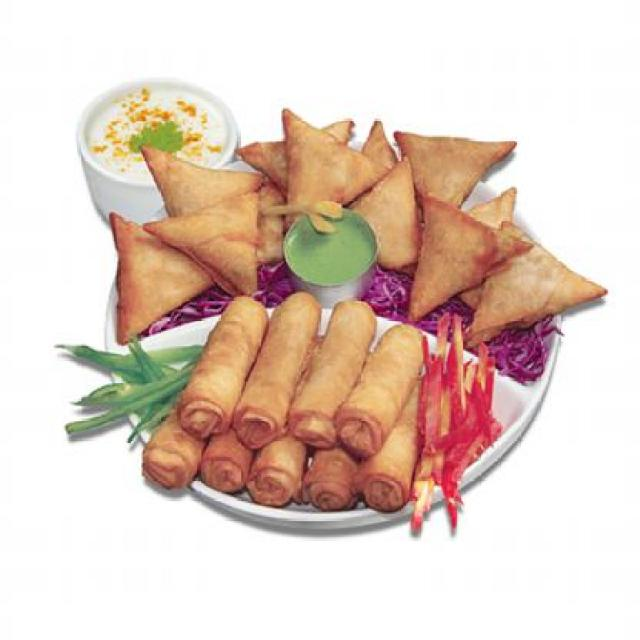guacamole: (280, 204, 385, 294)
samosa: (100, 95, 615, 331)
spring rolls: (138, 296, 414, 515)
